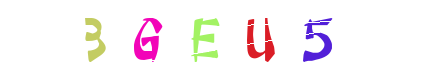3: (107, 0, 187, 80)
5: (277, 0, 357, 80)
E: (183, 0, 263, 80)
G: (117, 0, 197, 80)
U: (219, 0, 299, 80)
